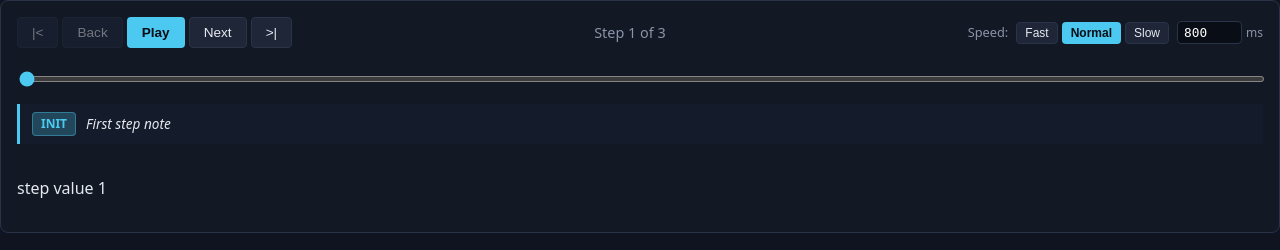
Test case: StepPlayer component › Next, Back, First and Last move through the steps
expect the text "step value 1" is shown: met, box [17,177,107,199]
expect the text "Step 1 of 3" is shown: met, box [594,22,666,43]
What coordinates should you click on to do the following:
click the button "Next"
I would click on:
 (218, 32)
Its box is [189,17,247,48].
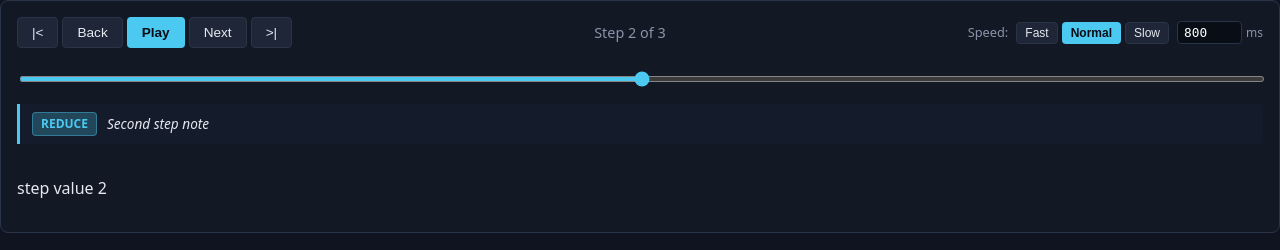
expect the text "step value 2" is shown: met, box [17,177,107,199]
What coordinates should you click on to do the following:
click the button named "Last step"
I would click on:
 (271, 32)
Its box is [251,17,292,48].
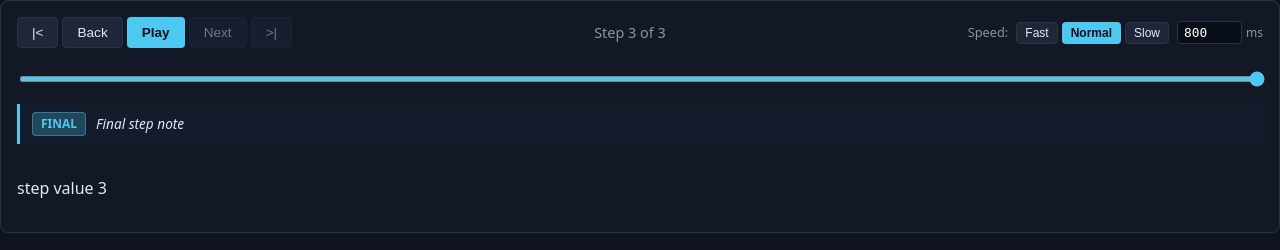
expect the text "step value 3" is shown: met, box [17,177,107,199]
expect the button "Next" is disabled: met, box [189,17,247,48]
What coordinates should you click on to do the following:
click the button "Back"
I would click on:
 (93, 32)
Its box is [62,17,123,48].
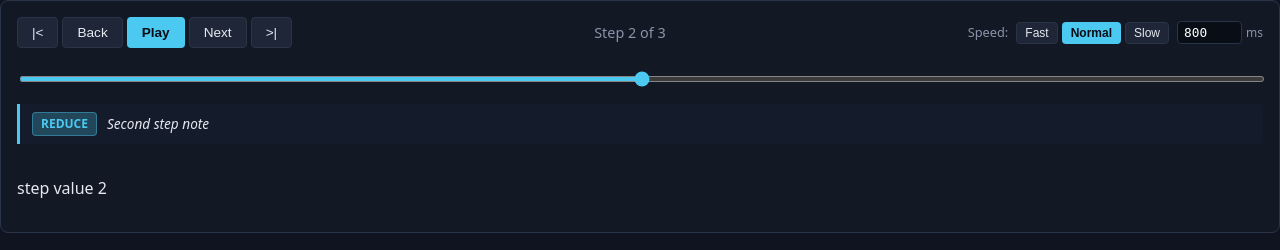
expect the text "step value 2" is shown: met, box [17,177,107,199]
What coordinates should you click on to do the following:
click the button named "First step"
I would click on:
 (38, 32)
Its box is [17,17,58,48].
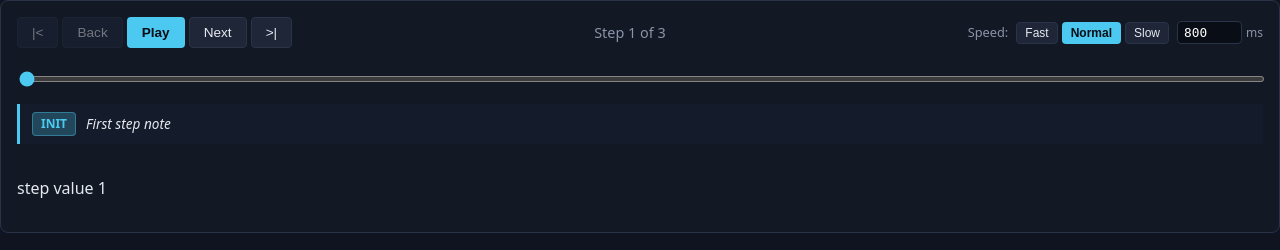
expect the text "step value 1" is shown: met, box [17,177,107,199]
expect the button "Back" is disabled: met, box [62,17,123,48]
